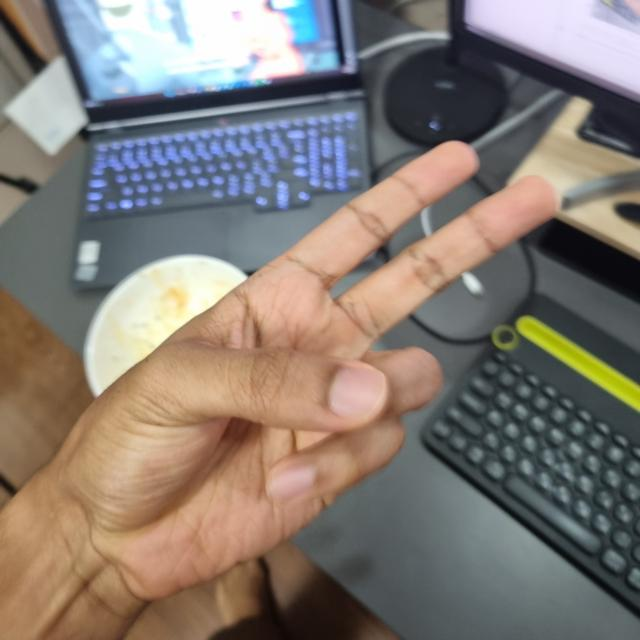Scissors: (32, 143, 557, 596)
